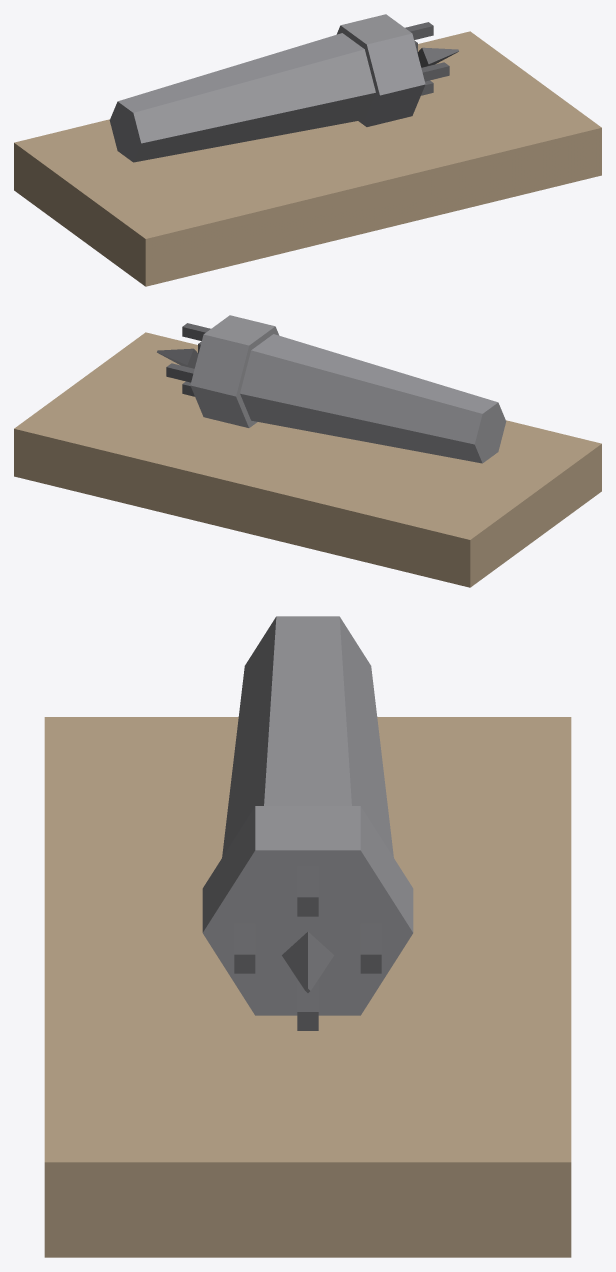
Rendered from prop-drive-center-blank.fbx.
3 views of the same model, one above another, from view 1: azimuth 30°, elevation 25°; view 2: azimuth 150°, elevation 25°; view 3: azimuth 270°, elevation 25° (orthographic). The views are drawn at different scales.
Parts seen in each view (by area): view 1: prop-drive-center-blank; view 2: prop-drive-center-blank; view 3: prop-drive-center-blank.
Part boxes in pixels (left/top/right/bottom): prop-drive-center-blank: left=14, top=14, right=601, bottom=286; prop-drive-center-blank: left=14, top=315, right=601, bottom=587; prop-drive-center-blank: left=44, top=616, right=571, bottom=1257.
Size of the model in its own units: 20 by 5.73 by 10.
